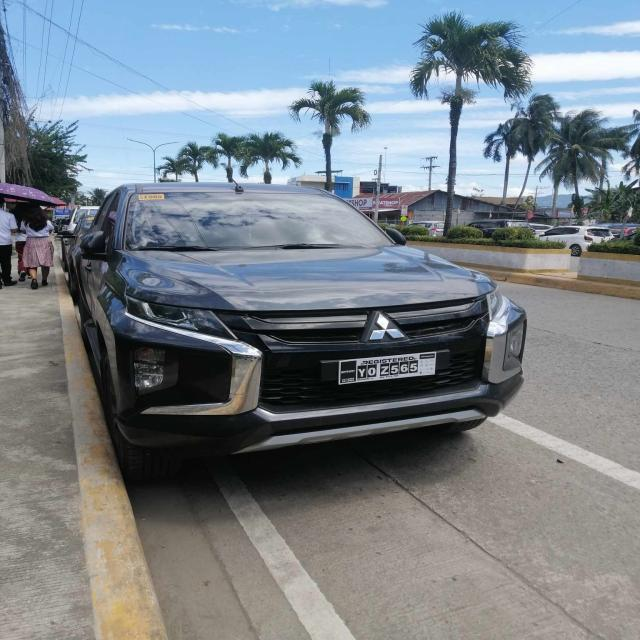license-plate: (338, 351, 438, 386)
